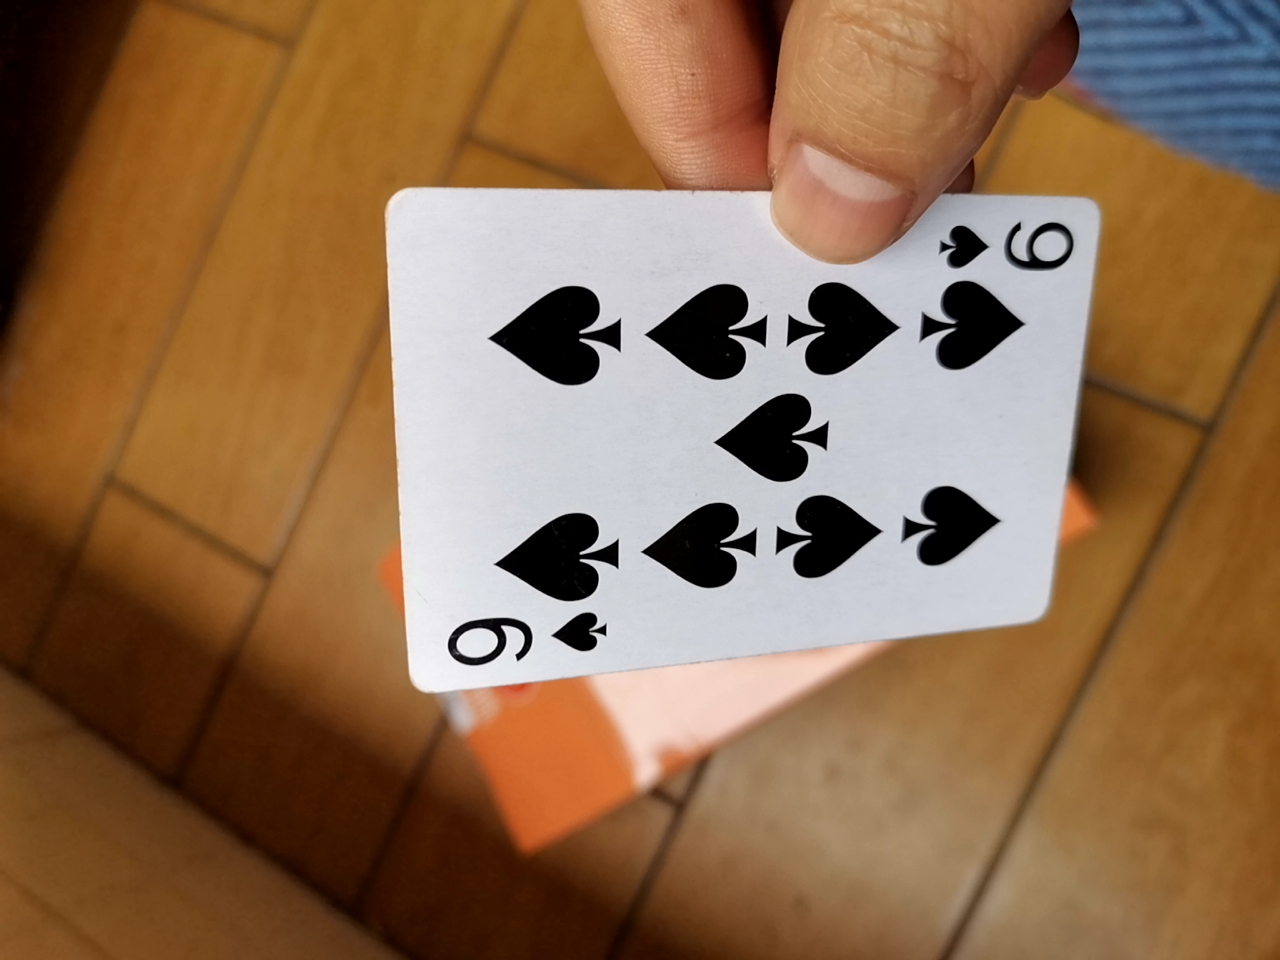ht 9: (356, 183, 1089, 714)
